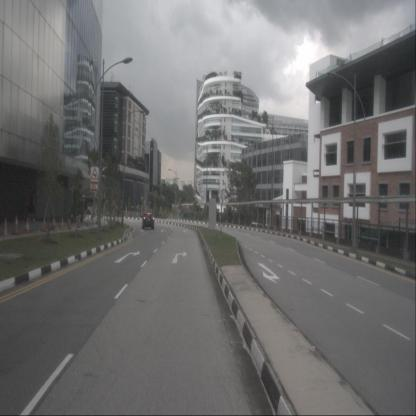cone: (3, 217, 8, 237), (14, 215, 19, 235), (25, 217, 30, 232), (51, 216, 56, 230), (42, 216, 46, 232), (60, 216, 64, 230), (67, 218, 72, 229), (77, 217, 81, 228), (87, 216, 90, 228)
